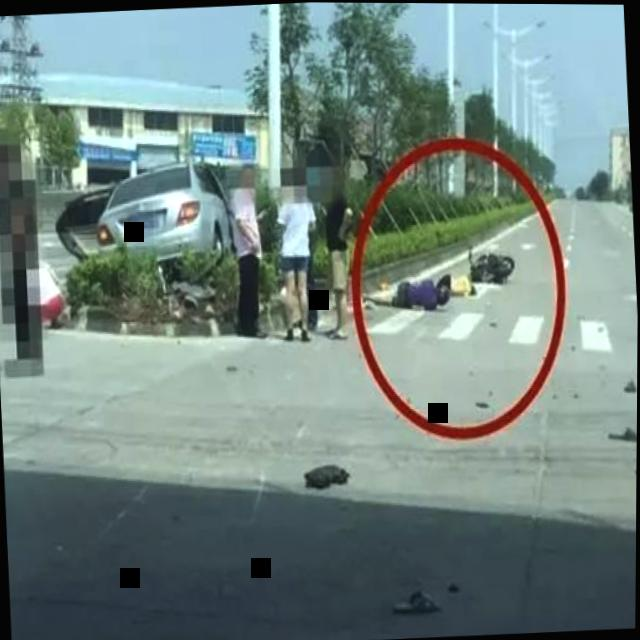Fall-Detected: (353, 253, 465, 319)
